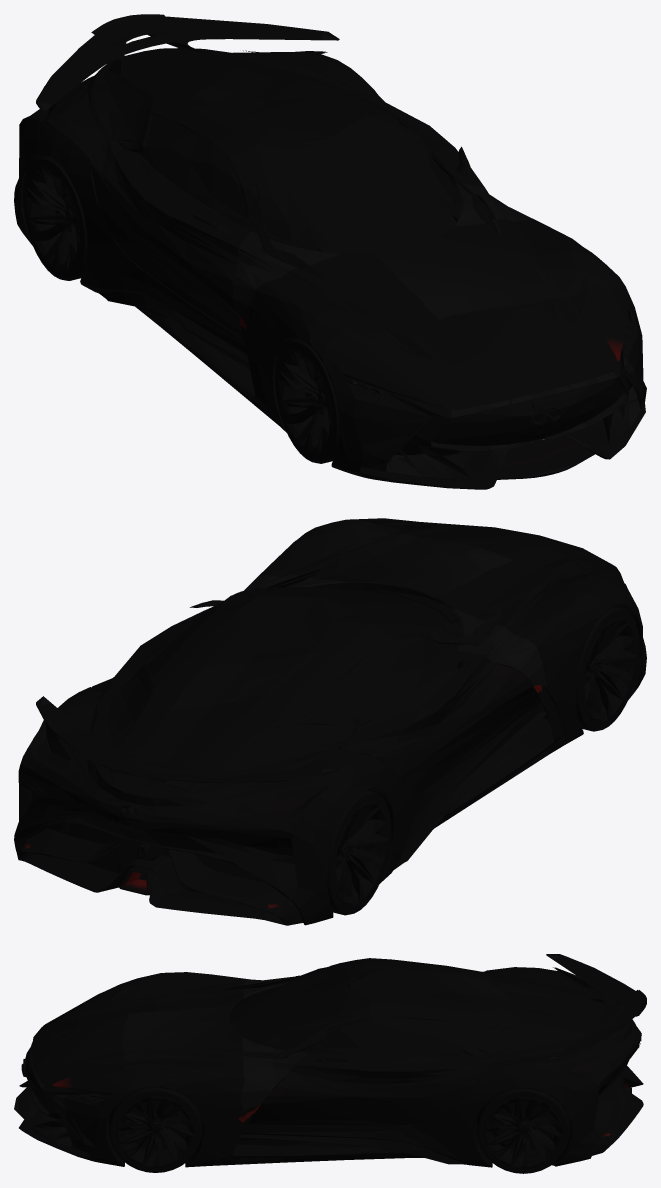
Rendered from car.glb.
The picture shows the model from 3 angles, top to bottom: view 1: azimuth 30°, elevation 25°; view 2: azimuth 150°, elevation 25°; view 3: azimuth 270°, elevation 25°; orthographic projection. The views are drawn at different scales.
Parts seen in each view (by area): view 1: car_concept; view 2: car_concept; view 3: car_concept.
Part boxes in pixels (<box>): car_concept: <box>14,14,646,489</box>; car_concept: <box>14,518,646,925</box>; car_concept: <box>14,954,646,1173</box>.
Bounding box in the file's own units: 2.06 × 1.21 × 4.97.
Materials: 1 (1 with a texture image).
